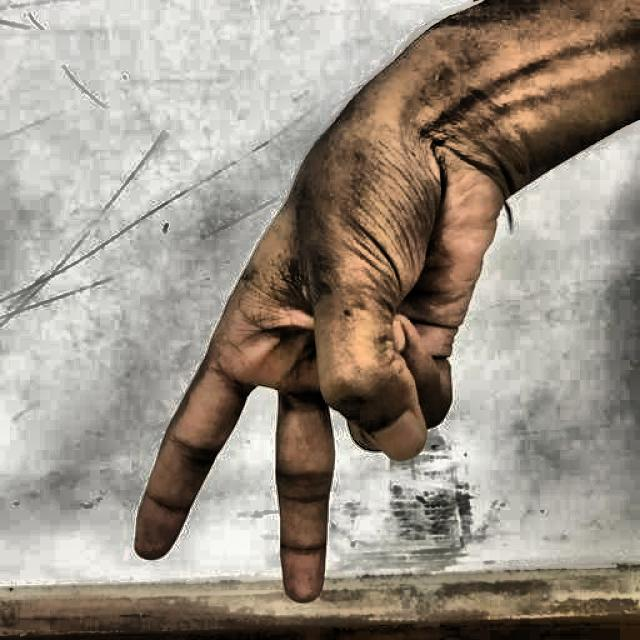Pa: (112, 62, 522, 606)
